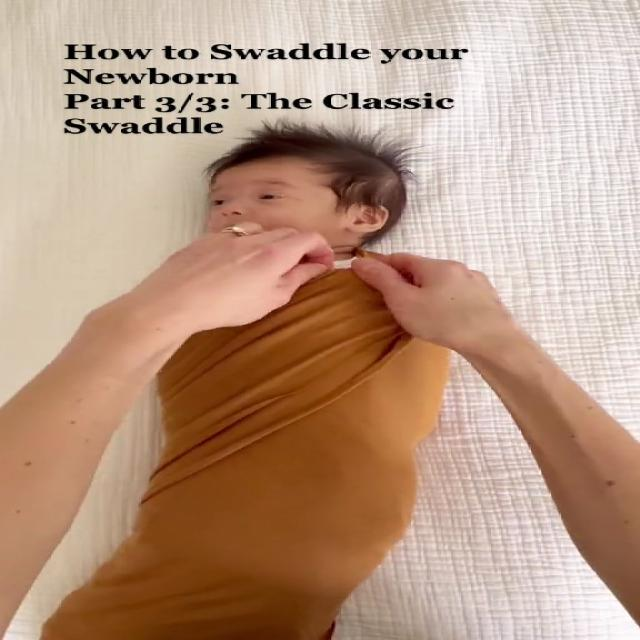baby: (101, 129, 468, 640)
